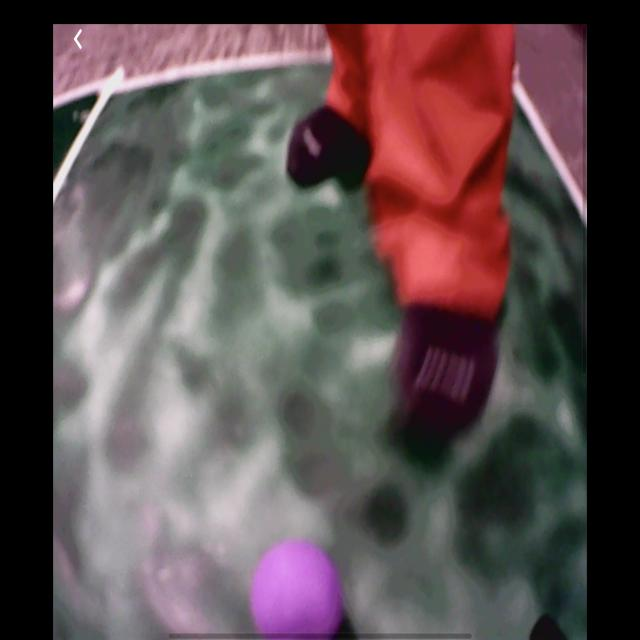ball: (250, 543, 345, 636)
